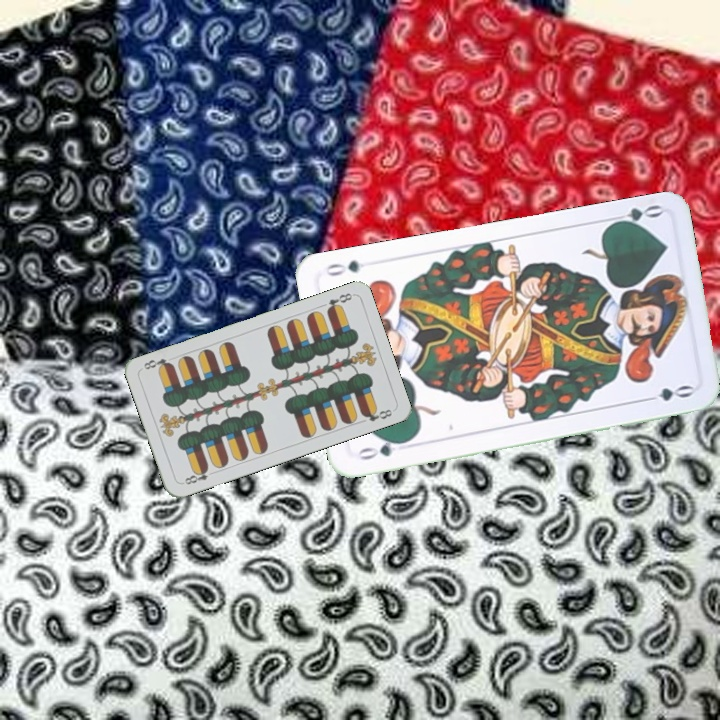E8: (323, 289, 355, 315), (178, 463, 211, 487)
GO: (605, 200, 664, 230), (352, 436, 410, 463)
